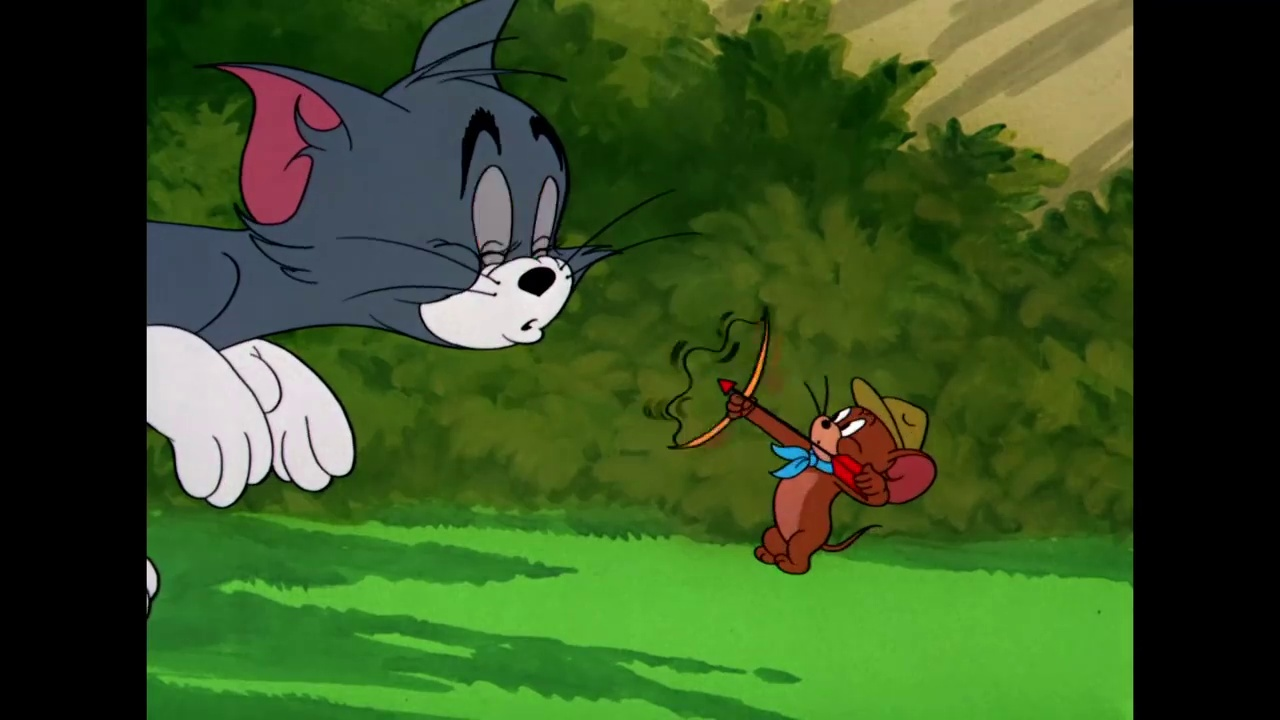tom: (211, 4, 625, 357)
